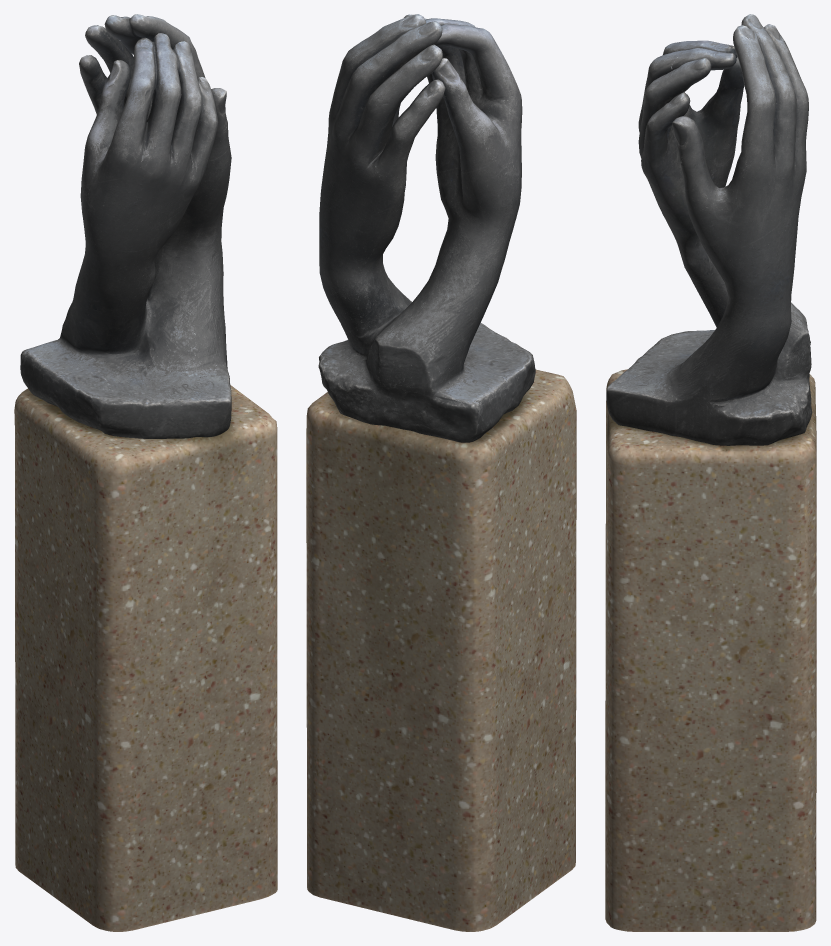
Rendered from TheCathedral.glb.
The picture shows the model from 3 angles, left to right: view 1: azimuth 30°, elevation 25°; view 2: azimuth 150°, elevation 25°; view 3: azimuth 270°, elevation 25°; orthographic projection. The views are drawn at different scales.
Parts seen in each view (by area): view 1: Base_low, TheCathedral_low; view 2: Base_low, TheCathedral_low; view 3: Base_low, TheCathedral_low.
Boxes of the visible parts, x1,y1,x2,y2 form: Base_low: (14, 385, 277, 931); TheCathedral_low: (20, 14, 231, 438); Base_low: (306, 369, 576, 931); TheCathedral_low: (318, 14, 535, 442); Base_low: (605, 369, 816, 931); TheCathedral_low: (606, 14, 812, 445).
Bounding box in the file's own units: 0.3191 × 1.4 × 0.3098.
Materials: 1 (1 with a texture image).
